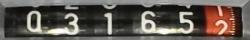digits: (212, 5, 230, 36), (62, 5, 80, 36), (25, 9, 42, 32), (177, 11, 194, 33), (140, 10, 155, 32), (104, 12, 112, 34)
